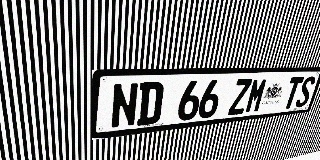6: (177, 80, 203, 121), (197, 80, 223, 119)
D: (137, 82, 164, 126)
M: (244, 78, 269, 113)
N: (110, 82, 139, 129)
S: (294, 76, 317, 108)
T: (281, 77, 304, 109)
Z: (228, 78, 253, 115)
